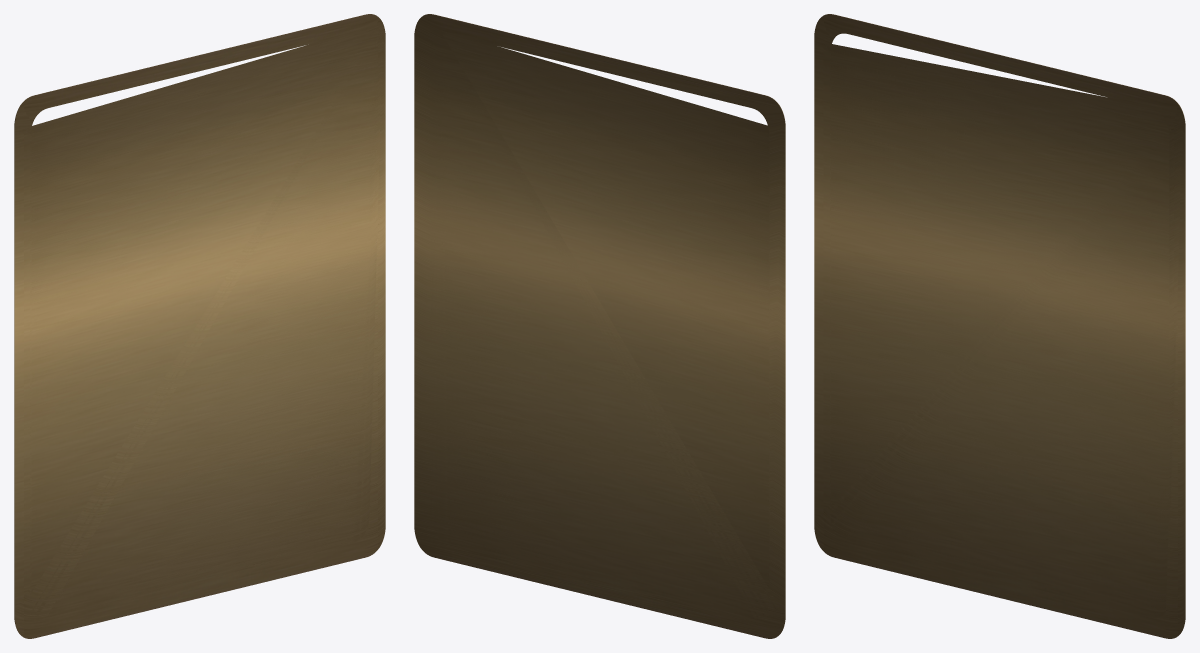
File: single_card_final_border6.fbx
3 views of the same model, side by side, from view 1: azimuth 30°, elevation 25°; view 2: azimuth 150°, elevation 25°; view 3: azimuth 330°, elevation 25° (orthographic).
Parts seen in each view (by area): view 1: Plane.001; view 2: Plane.001; view 3: Plane.001.
Part boxes in pixels (x1,y1,x2,y2): Plane.001: [14, 14, 385, 638]; Plane.001: [414, 14, 785, 638]; Plane.001: [814, 14, 1185, 638].
Bounding box in the file's own units: 63 × 88 × 0.1.
Materials: 1 (1 with a texture image).
